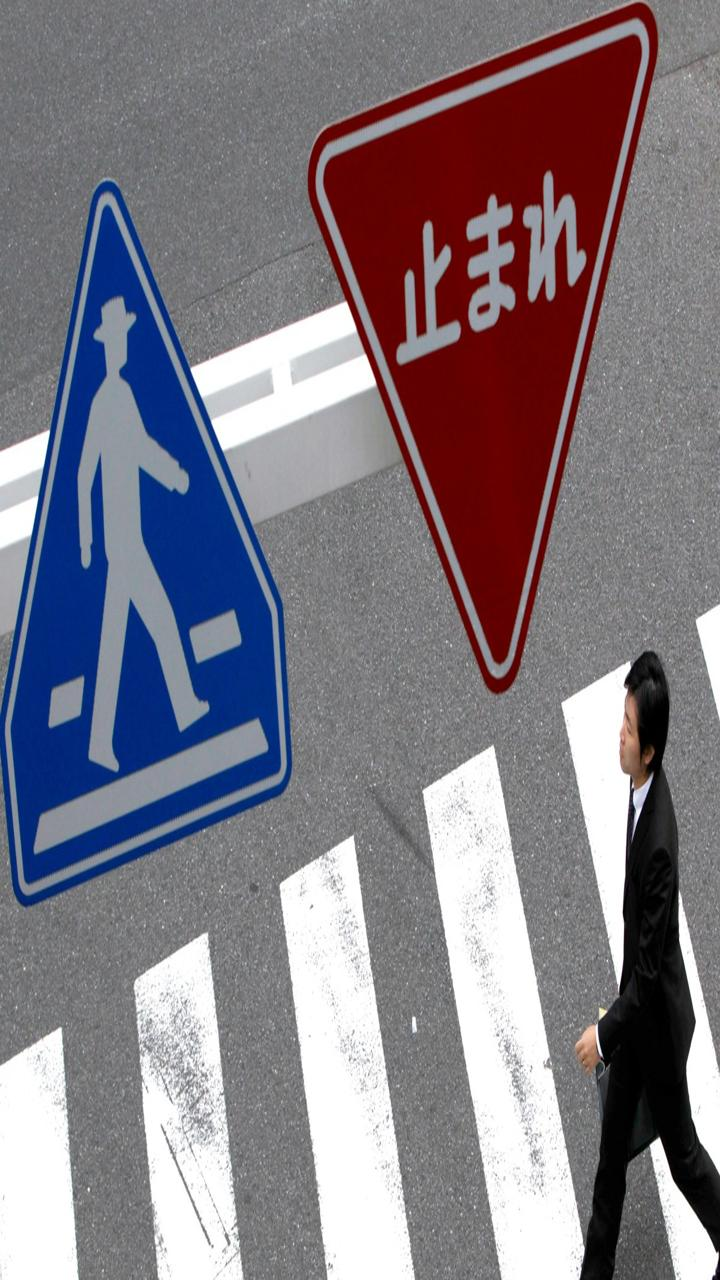Traffic sign: (8, 167, 300, 929)
pedestrian: (572, 649, 720, 1272)
